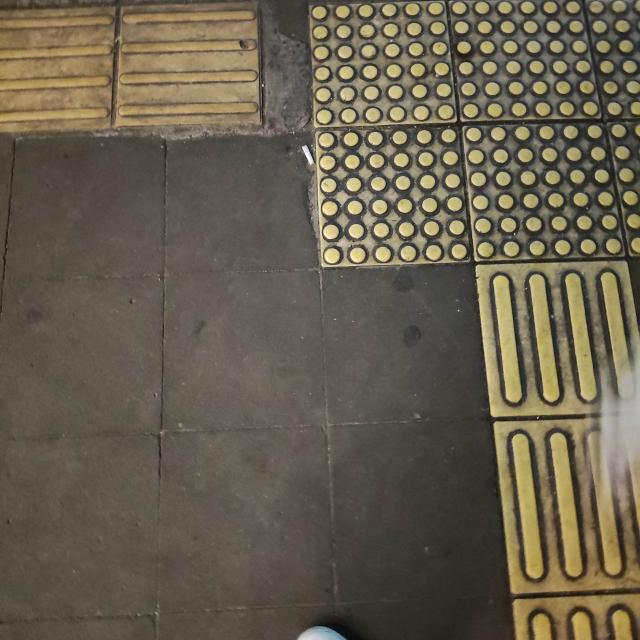kiri: (86, 0, 640, 413)
